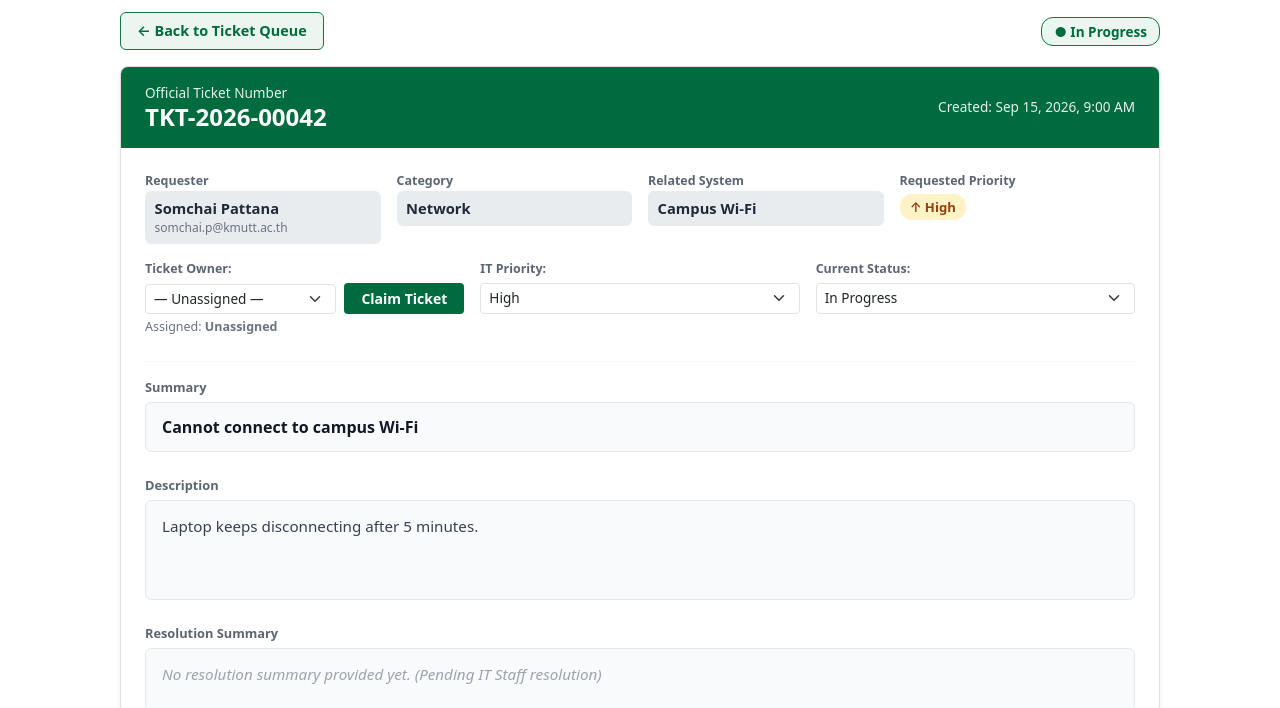
Test case: Lab 3 Ticket Detail Screen Component Tests (Feature-11) › UI-06: Comments vs Notes visual distinction & role isolation (AC-12, AC-13, AC-04) › renders resolution summary validation error when transitioning to Resolved with empty text (UI Spec 2.1 & 4.4)
The image size is (1280, 708).
Select "Resolved" in the dropdown labelled "Current Status:" at (975, 298), box 816,283 -> 1135,314
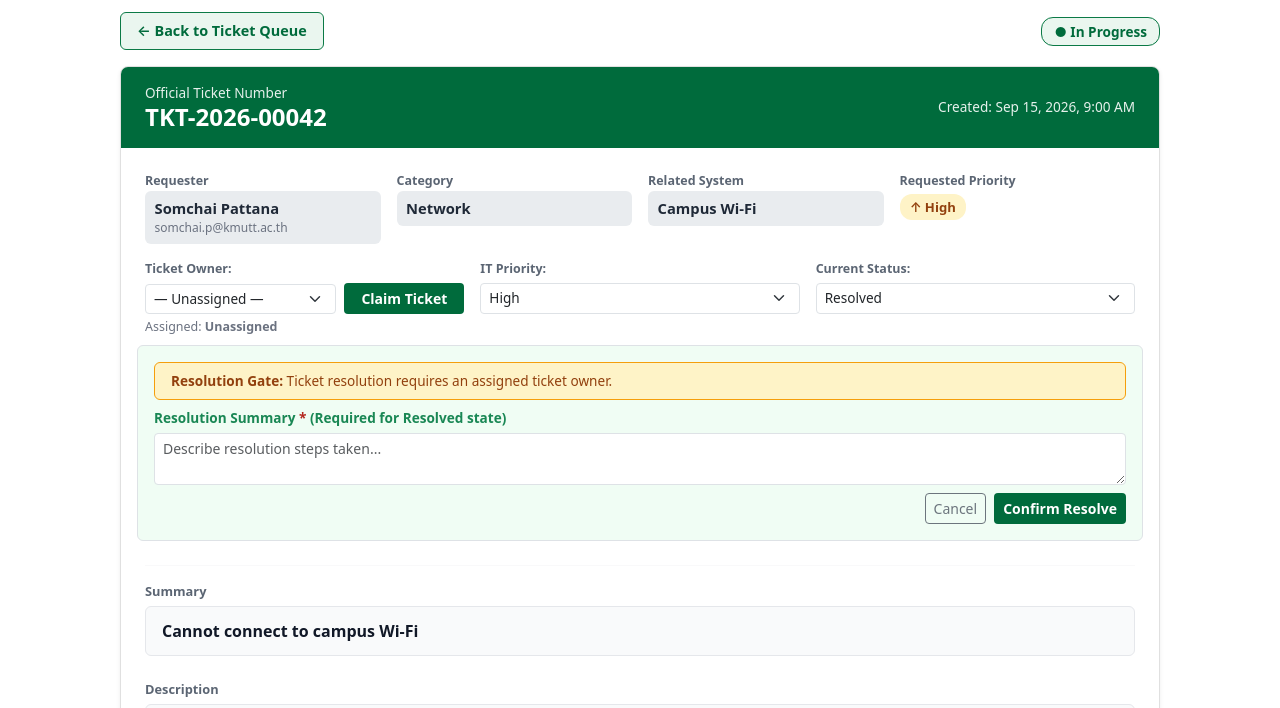
Expected: the text box with placeholder "Describe resolution steps taken..." is shown, 154,433 -> 1126,485
Click the button "Confirm Resolve" at (1060, 508), box 994,493 -> 1126,524
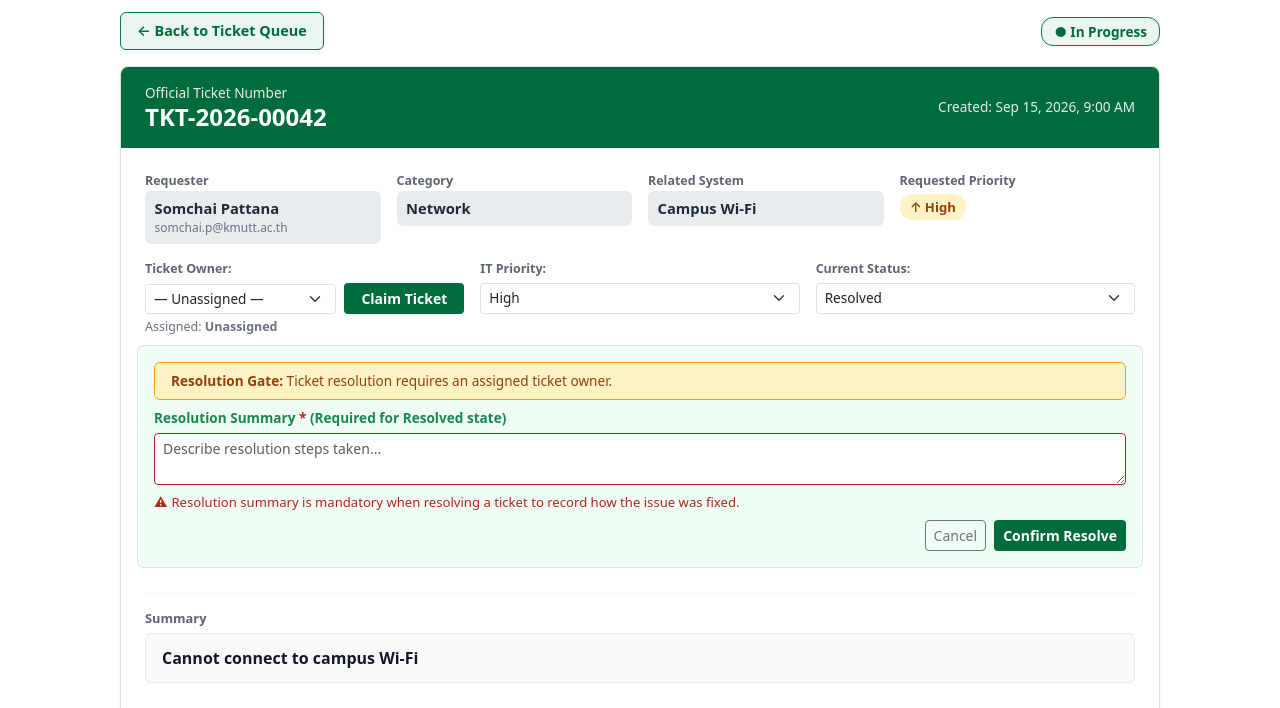
Expected: the text "Resolution summary is mandatory when resolving a ticket" is shown, 172,493 -> 740,511
Expected: the message with id "status-validation-error" is shown, 154,493 -> 740,511
